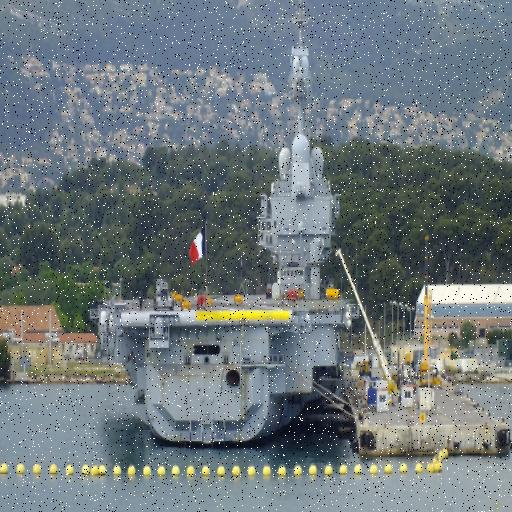Portanaves: (93, 1, 343, 455)
